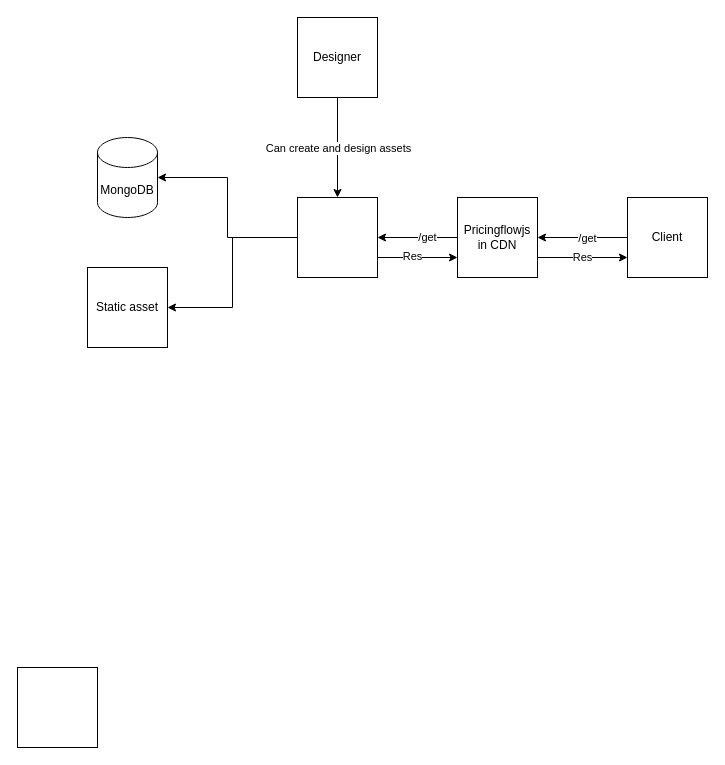
Image size: 725x765. Some labels were removed from this diagram. The shapes that lost their labels are listed below. From the top down, each one's centre as x and y in pixels, then its label:
At pixel 337 237: "Service".
At pixel 57 707: "JSON Schema".
